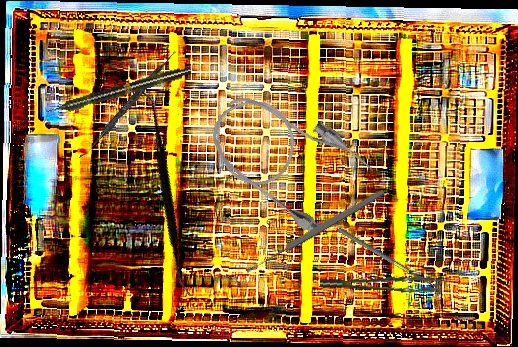Cannula: (194, 72, 380, 243)
Handpiece: (44, 64, 193, 118)
Spatula Surgical: (61, 86, 268, 299), (78, 47, 178, 163), (337, 223, 442, 291)
Surgical Spoon: (244, 188, 386, 275)
Tissue Forceps: (319, 262, 442, 304)
